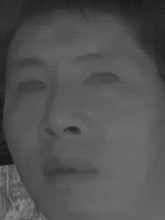eye: (82, 66, 121, 94), (12, 76, 49, 98)
mouth: (39, 154, 102, 193)
